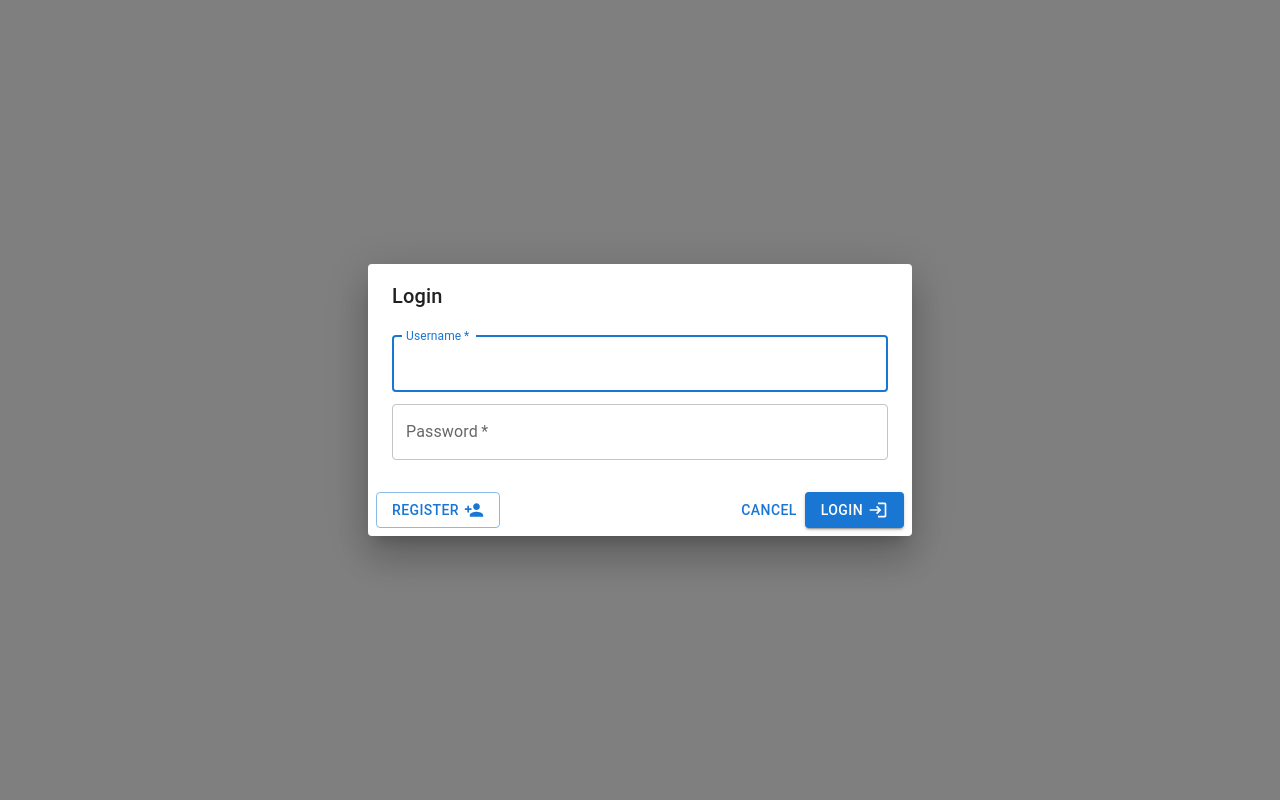
Test case: Login Page tests › Check login status as success after typing correct credentials
This screenshot has width=1280, height=800.
Check: the heading "Login" is shown, box [392,284,442,308]
Check: the password field labelled "Password *" is shown, box [392,404,888,460]
Type "Jay" into the field labelled "Username *".
click(640, 364); type("Jay")  # box [392,336,888,392]
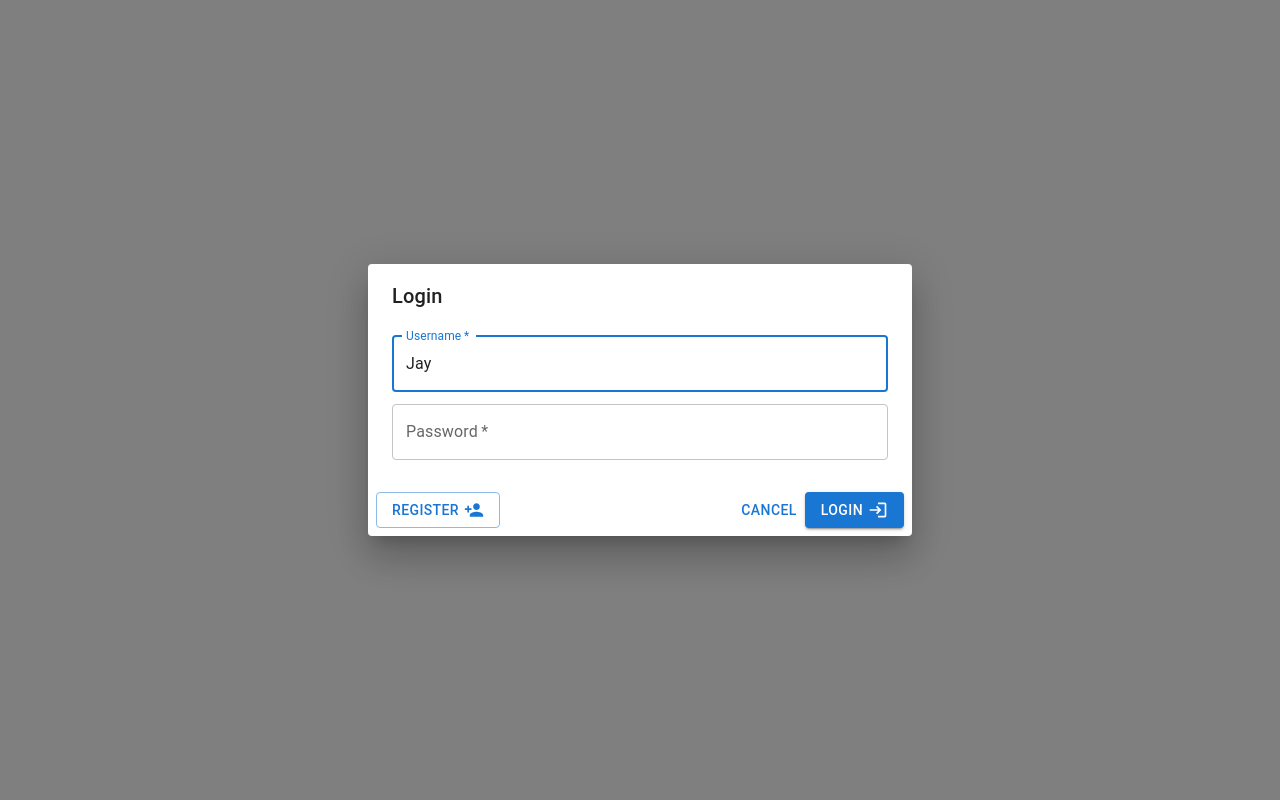
Type "Jay@28101998" into the password field labelled "Password *".
click(640, 432); type("Jay@28101998")  # box [392,404,888,460]
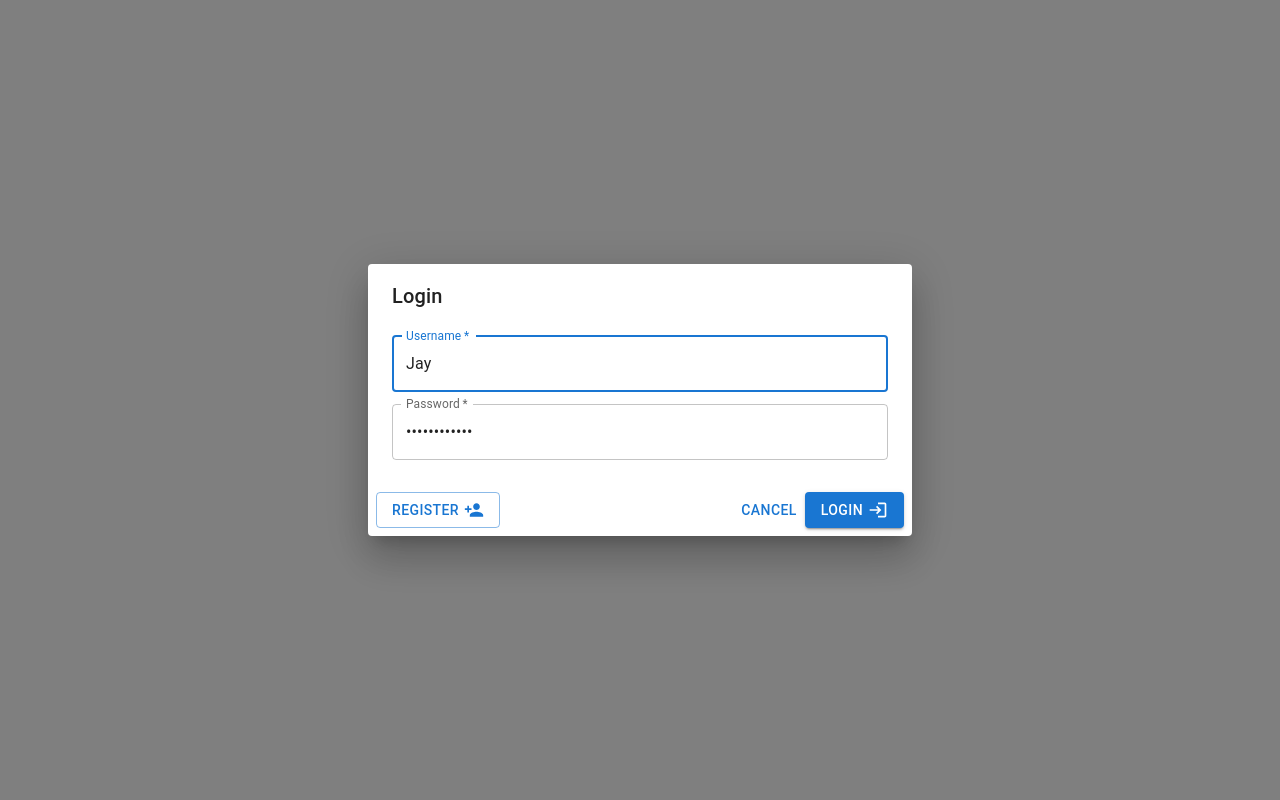
Click the button with test id "login_button".
click(854, 510)  # box [805,492,904,528]
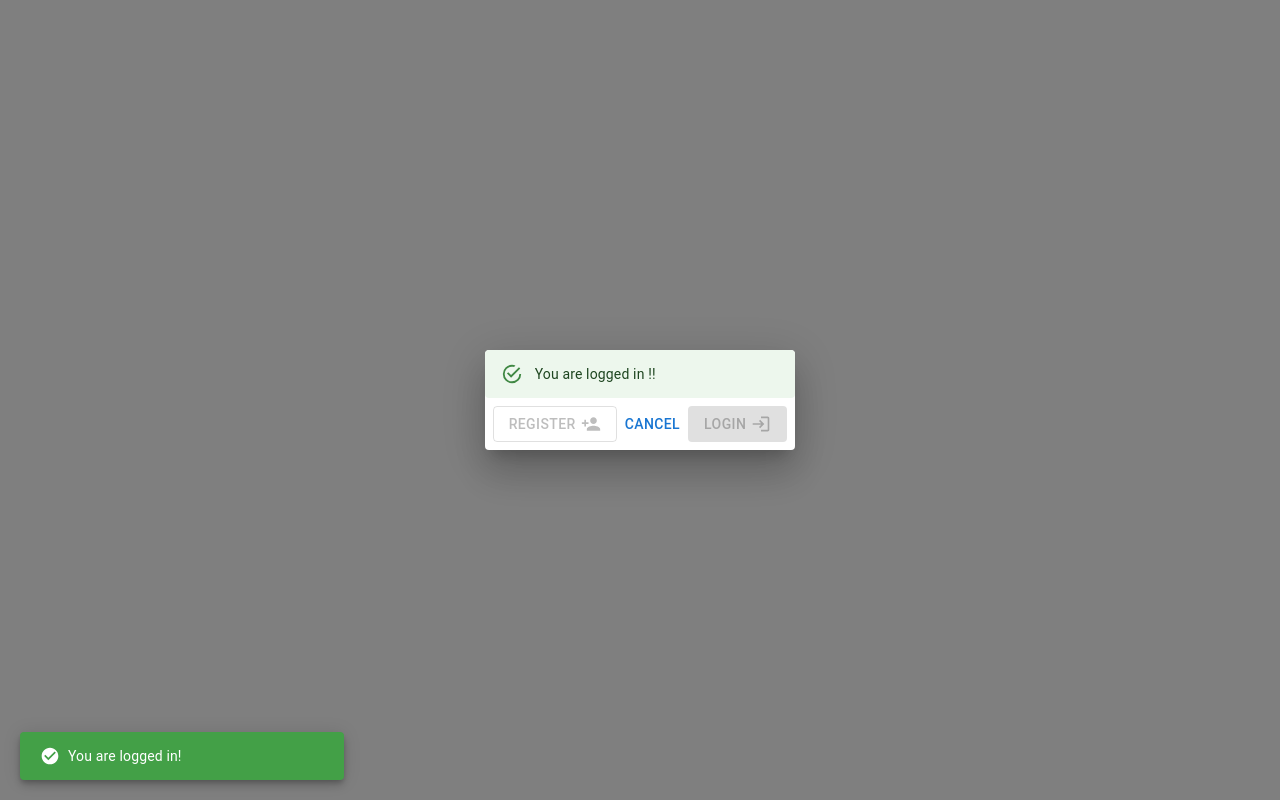
Check: the text "You are logged in!" is shown, box [40,746,182,766]
